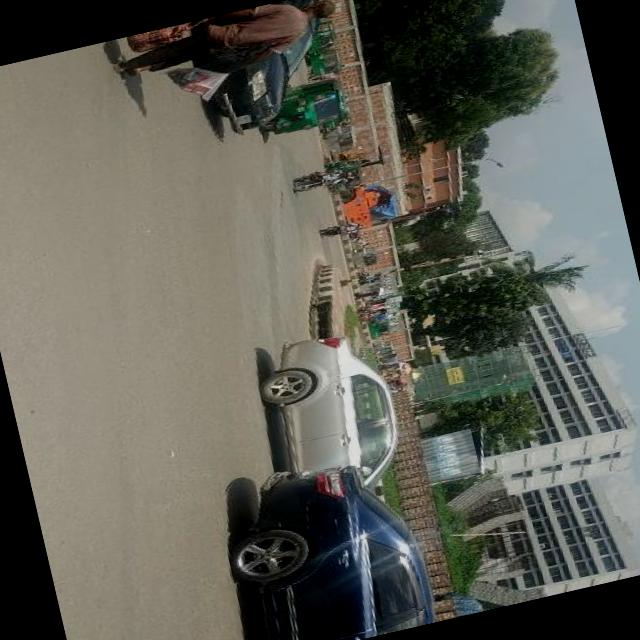car: (207, 443, 437, 640), (250, 324, 412, 504), (204, 45, 326, 142)
motorcycle: (284, 74, 348, 132), (291, 163, 354, 196), (318, 122, 358, 157), (304, 46, 344, 80), (316, 218, 368, 244), (352, 297, 390, 328), (322, 155, 362, 175), (351, 244, 380, 270), (367, 320, 393, 340), (372, 338, 398, 358)
